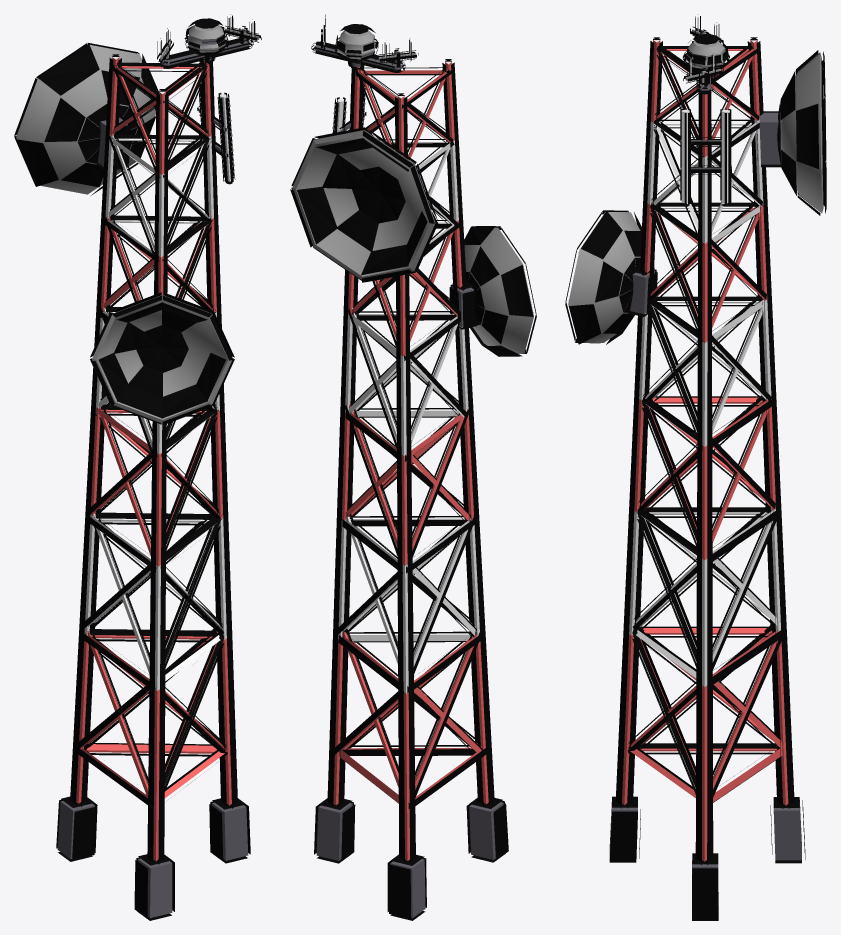
Rendered from RadioTower.fbx.
3 renders of one model, left to right at view 1: azimuth 30°, elevation 25°; view 2: azimuth 150°, elevation 25°; view 3: azimuth 270°, elevation 25°, orthographic. The views are drawn at different scales.
Visible parts, largest first — view 1: node-0; view 2: node-0; view 3: node-0.
Part boxes in pixels (left/top/right/bottom): node-0: left=14, top=14, right=261, bottom=920; node-0: left=290, top=14, right=536, bottom=920; node-0: left=565, top=16, right=826, bottom=920.
Size of the model in its own units: 832 by 3442 by 944.
